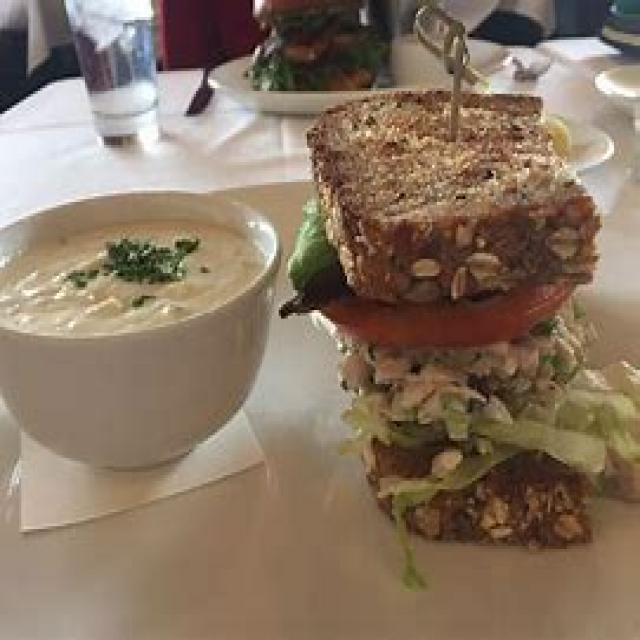Sandwich: (300, 97, 638, 580)
